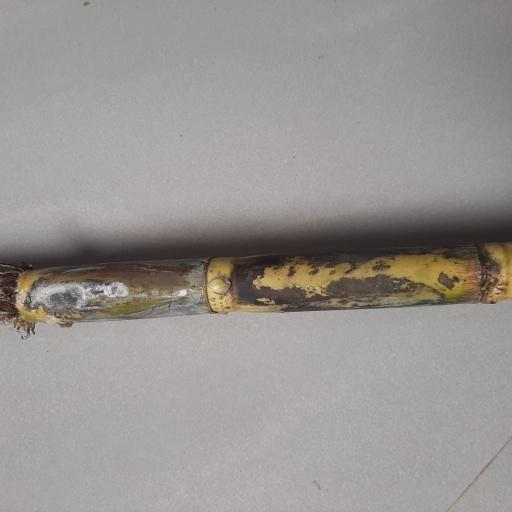Bud: (205, 274, 232, 298)
